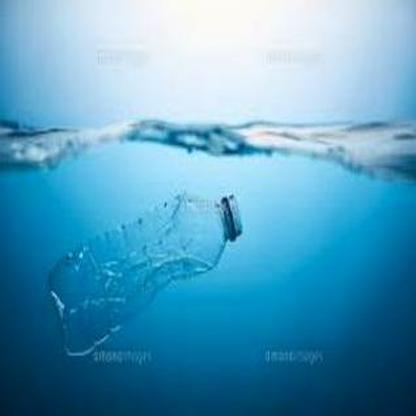plastic bottle: (50, 193, 244, 356)
